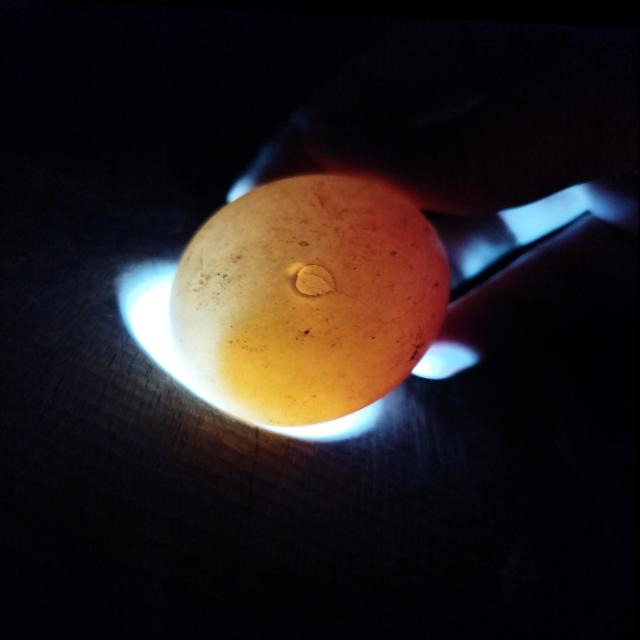Rachadura: (296, 262, 335, 293)
